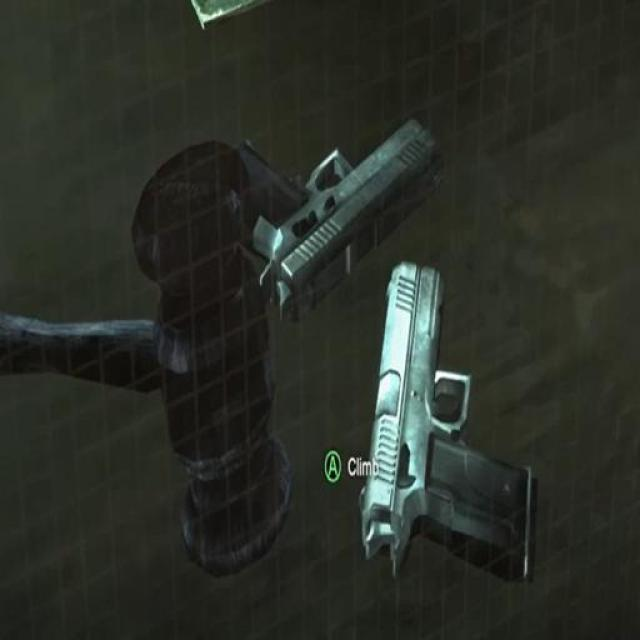pistol: (310, 264, 545, 596)
